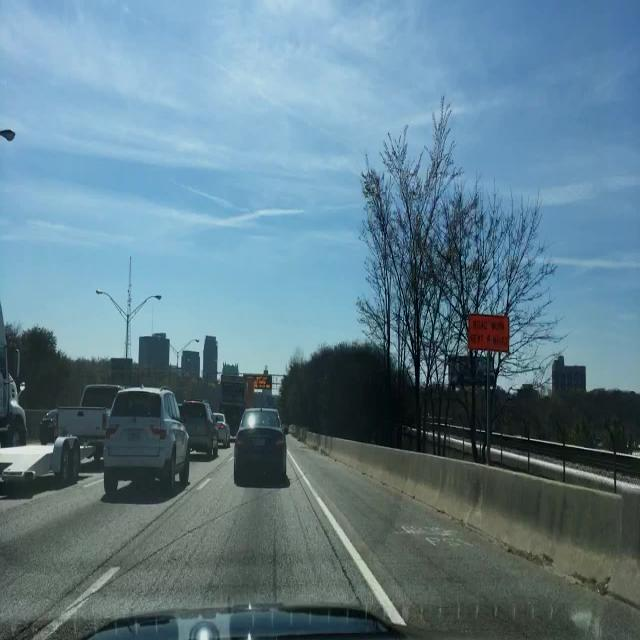Vehicle: (5, 359, 99, 495), (102, 378, 184, 518), (230, 388, 296, 498), (190, 392, 217, 463)
